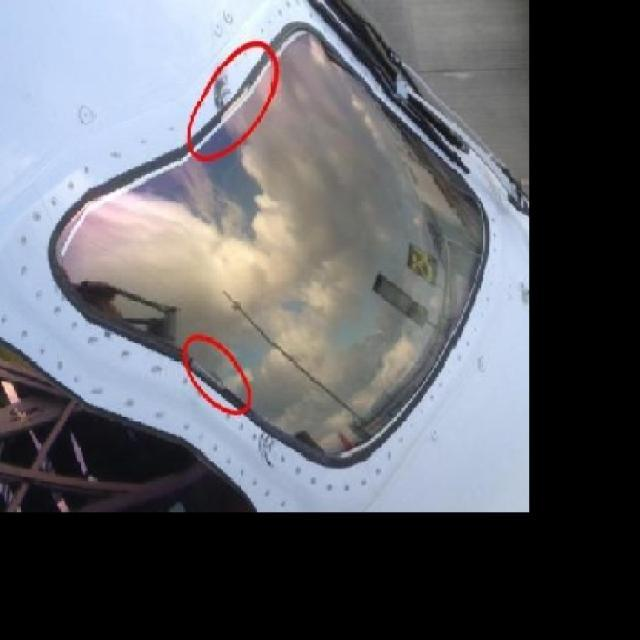crack: (260, 432, 277, 466)
